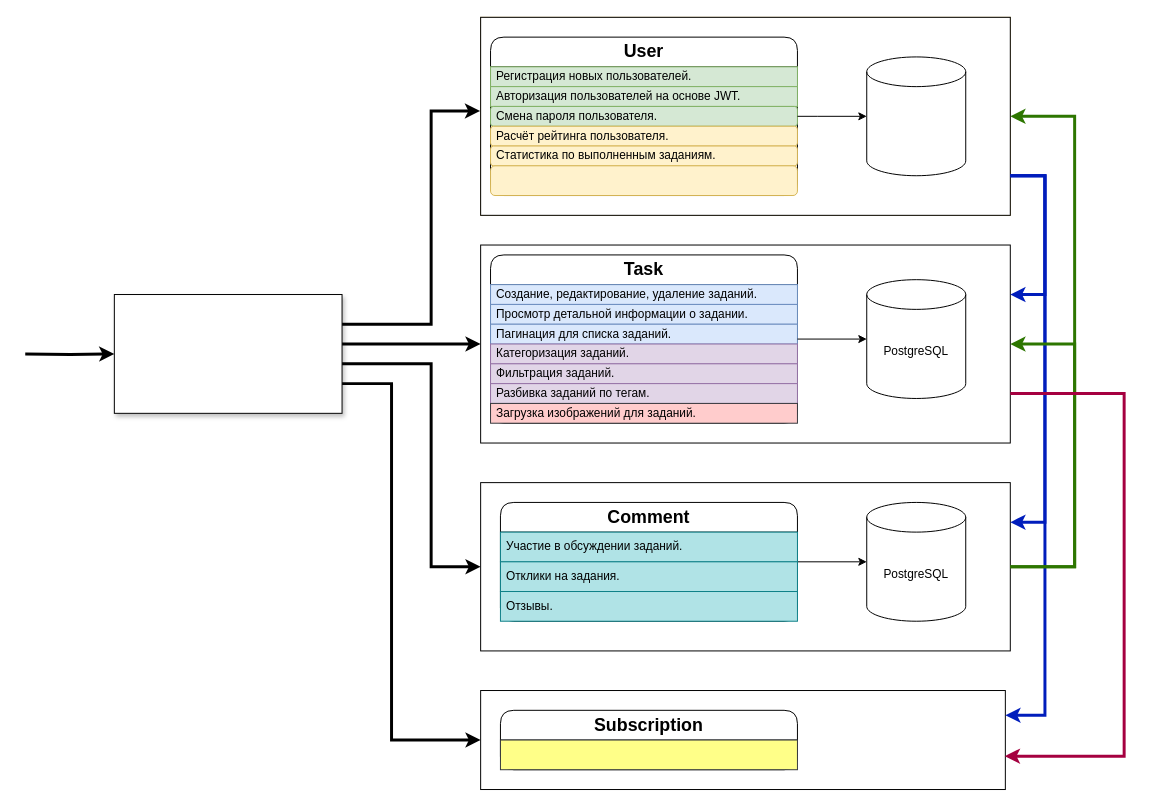
This 1150x807 diagram has some shape labels left out. Here are the shapes that lost their labels. From the top down, the centre of each, then its label:
the point at 916,116: MongoDB
the point at 643,180: Разделение пользователей по ролям: «Исполнители», «Заказчики».
the point at 228,355: API GATEWAY
the point at 648,754: Рассылка почтовых уведомлений на email о появлении новых заданий.
